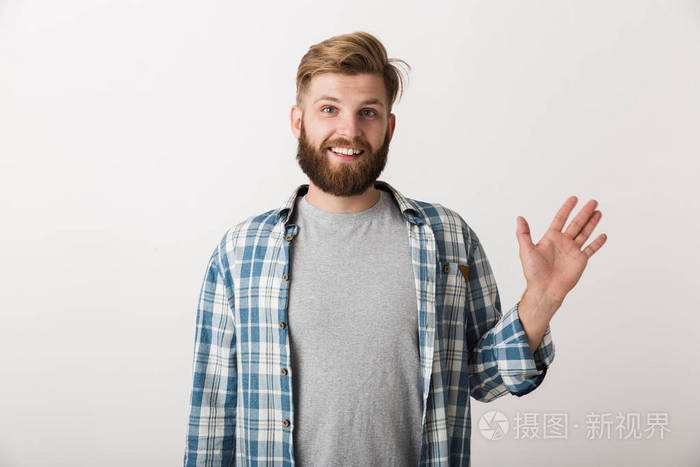no-phone: (513, 194, 609, 299)
